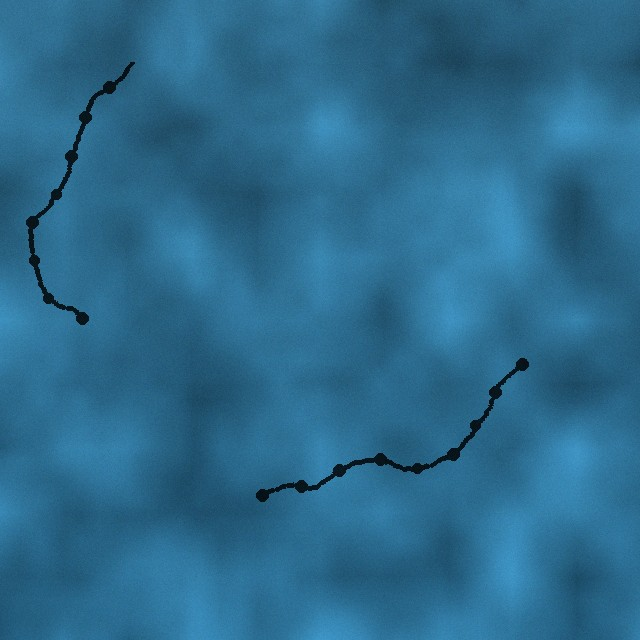crack: (255, 354, 533, 502), (23, 55, 139, 325)
